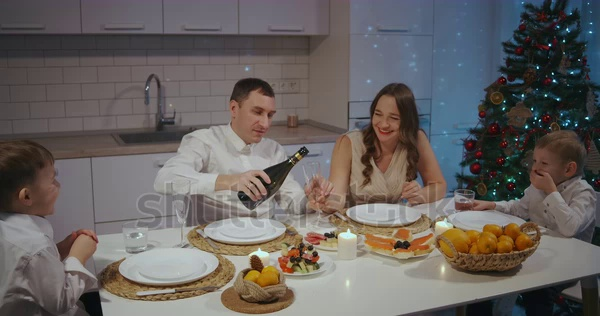No Mask: (4, 140, 77, 216), (229, 79, 279, 143), (526, 135, 583, 185), (372, 90, 406, 143)
